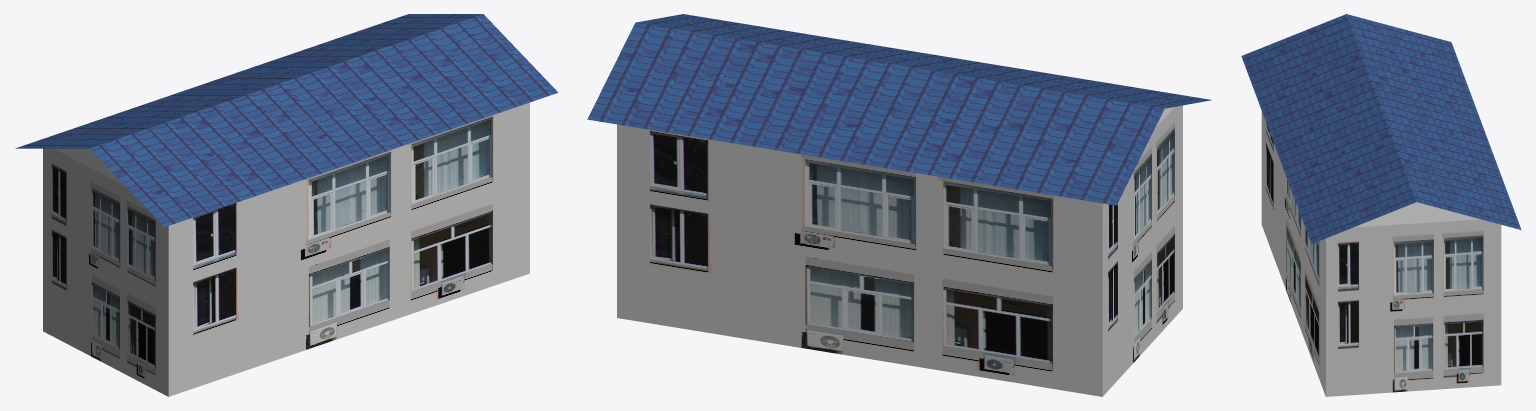
The picture shows the model from 3 angles, left to right: view 1: azimuth 30°, elevation 25°; view 2: azimuth 150°, elevation 25°; view 3: azimuth 270°, elevation 25°; orthographic projection. The views are drawn at different scales.
Parts seen in each view (by area): view 1: CityEngineMaterial_9_m, CityEngineMaterial_10_m, CityEngineMaterial_3_m; view 2: CityEngineMaterial_9_m, CityEngineMaterial_10_m; view 3: CityEngineMaterial_10_m, CityEngineMaterial_9_m, CityEngineMaterial_3_m.
Part boxes in pixels (bbox=[...]): CityEngineMaterial_9_m: bbox=[43, 102, 529, 396]; CityEngineMaterial_10_m: bbox=[15, 14, 558, 226]; CityEngineMaterial_3_m: bbox=[54, 148, 124, 185]; CityEngineMaterial_9_m: bbox=[617, 105, 1182, 396]; CityEngineMaterial_10_m: bbox=[587, 14, 1211, 205]; CityEngineMaterial_10_m: bbox=[1241, 14, 1521, 243]; CityEngineMaterial_9_m: bbox=[1261, 111, 1501, 396]; CityEngineMaterial_3_m: bbox=[1353, 202, 1479, 227].
Size of the model in its own units: 25.69 by 11.66 by 15.06.
